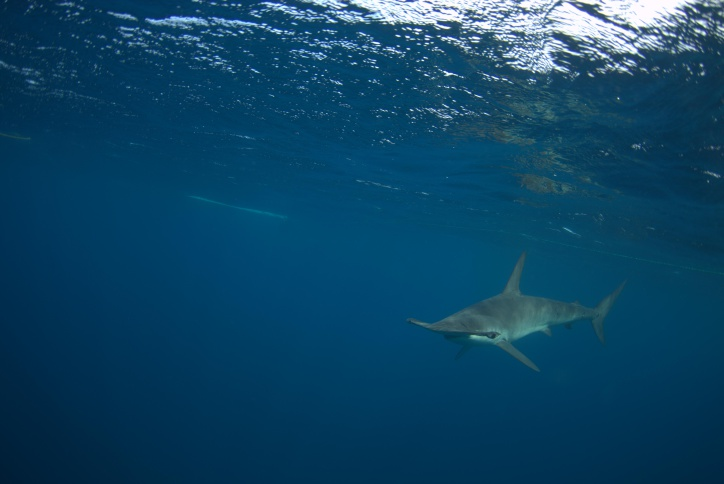Hammer: (398, 246, 629, 390)
